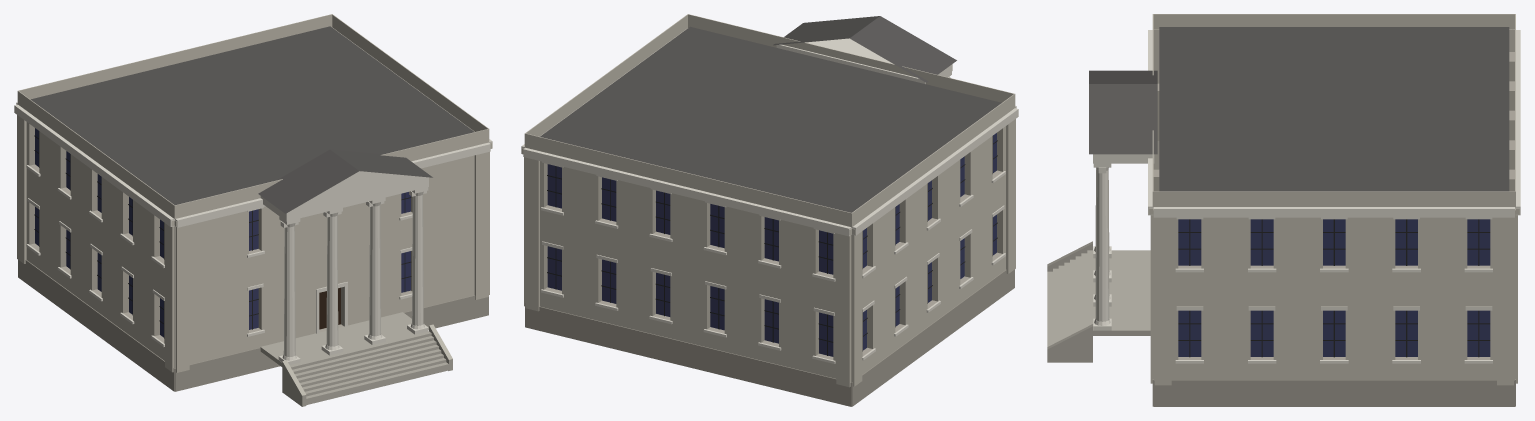
The model's file is ch-first-church-of-christ-scientist-1961.glb.
The picture shows the model from 3 angles, left to right: view 1: azimuth 30°, elevation 25°; view 2: azimuth 150°, elevation 25°; view 3: azimuth 270°, elevation 25°; orthographic projection. The views are drawn at different scales.
Parts seen in each view (by area): view 1: ch_brick, ch_roof, ch_trim, ch_conc, ch_base, ch_brick2, ch_stain, ch_lead; view 2: ch_brick, ch_roof, ch_base, ch_trim, ch_stain, ch_brick2, ch_lead; view 3: ch_roof, ch_brick, ch_trim, ch_stain, ch_base, ch_conc, ch_brick2, ch_lead.
Boxes of the visible parts, x1,y1,x2,y2 form: ch_brick: (16, 14, 491, 372); ch_roof: (30, 26, 474, 213); ch_trim: (14, 102, 492, 364); ch_conc: (260, 312, 452, 406); ch_base: (18, 260, 488, 391); ch_brick2: (29, 124, 412, 342); ch_stain: (35, 128, 410, 337); ch_lead: (34, 131, 411, 338); ch_brick: (522, 14, 1016, 387); ch_roof: (540, 16, 1001, 212); ch_base: (525, 269, 1014, 406); ch_trim: (521, 34, 1018, 363); ch_stain: (547, 133, 996, 356); ch_brick2: (544, 128, 1002, 359); ch_lead: (547, 136, 997, 355); ch_roof: (1089, 27, 1509, 191); ch_brick: (1149, 14, 1519, 385); ch_trim: (1093, 29, 1520, 363); ch_stain: (1178, 219, 1490, 356); ch_base: (1152, 379, 1515, 406); ch_conc: (1047, 241, 1150, 362); ch_brick2: (1153, 52, 1514, 359); ch_lead: (1178, 219, 1490, 357).
Size of the model in its own units: 22.6 by 13.7 by 24.9.
